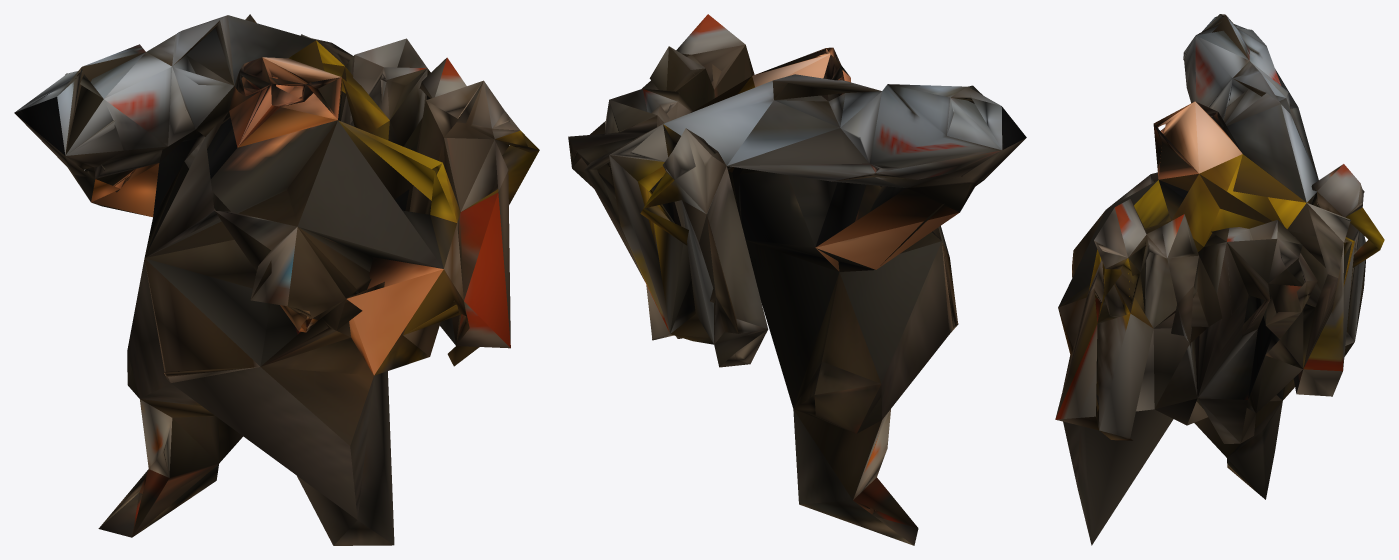
The model's file is demo_skirmisher_01.glb.
The picture shows the model from 3 angles, left to right: view 1: azimuth 30°, elevation 25°; view 2: azimuth 150°, elevation 25°; view 3: azimuth 270°, elevation 25°; orthographic projection. The views are drawn at different scales.
Visible parts, largest first — view 1: node_0; view 2: node_0; view 3: node_0.
Part boxes in pixels (<box>): node_0: <box>14,14,539,545</box>; node_0: <box>568,14,1026,545</box>; node_0: <box>1055,14,1384,545</box>.
Size of the model in its own units: 0.8499 by 0.8913 by 0.6161.
1 material, 1 textured.
